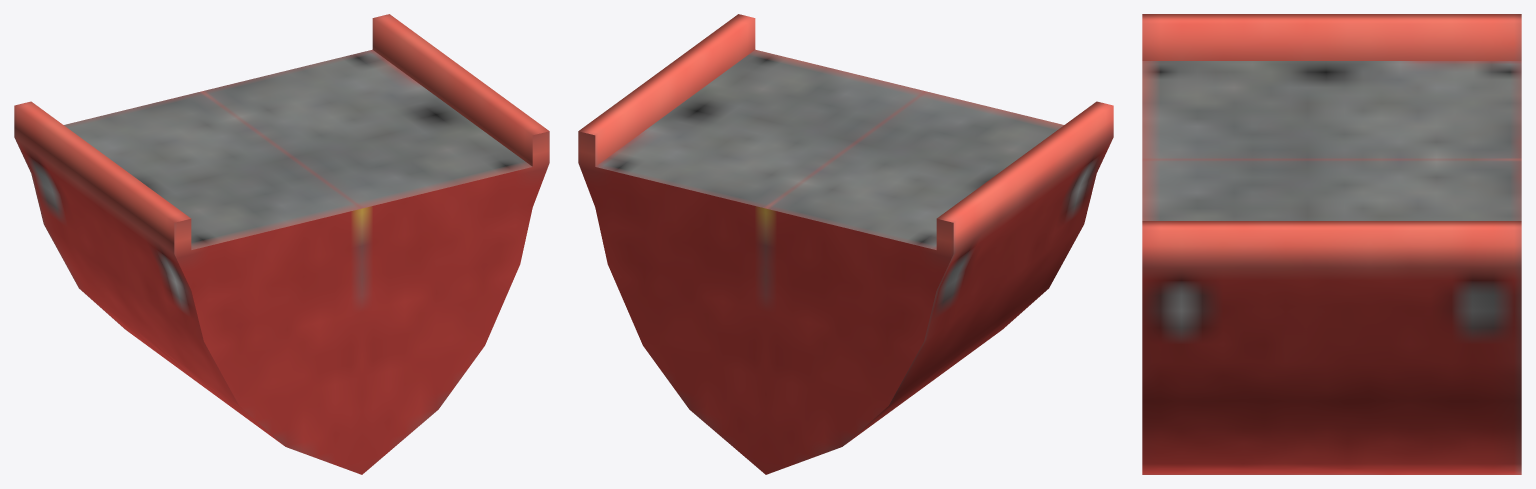
Rendered from BaseSmall1.FBX.
3 views of the same model, side by side, from view 1: azimuth 30°, elevation 25°; view 2: azimuth 150°, elevation 25°; view 3: azimuth 270°, elevation 25° (orthographic). The views are drawn at different scales.
Visible parts, largest first — view 1: Basesmall1; view 2: Basesmall1; view 3: Basesmall1.
Boxes of the visible parts, <box> form: Basesmall1: <box>14,14,549,474</box>; Basesmall1: <box>578,14,1113,474</box>; Basesmall1: <box>1142,14,1521,474</box>.
Bounding box in the file's own units: 49.8 × 37.79 × 36.82.
1 material, 1 textured.
